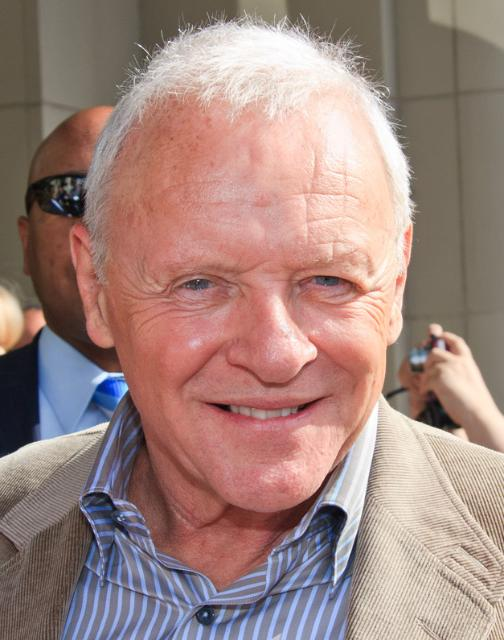crows_feet: (126, 272, 176, 324), (358, 271, 390, 325)
forehead: (295, 162, 321, 234), (335, 159, 357, 223)
frown_line: (232, 252, 268, 284)
gummy_smile: (176, 338, 226, 394), (312, 333, 344, 377)
